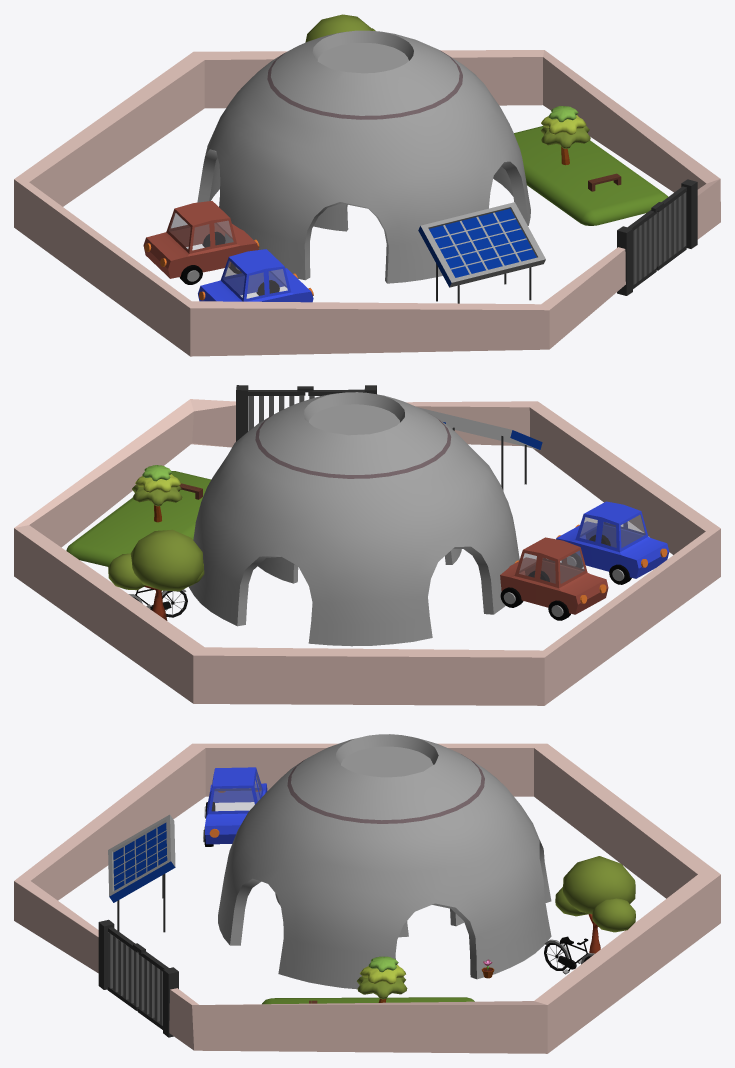
Rendered from Research Single.fbx.
3 renders of one model, top to bottom at view 1: azimuth 30°, elevation 25°; view 2: azimuth 150°, elevation 25°; view 3: azimuth 270°, elevation 25°, orthographic.
Parts seen in each view (by area): view 1: wall, igloo1, Garden, Solar panel, Car.001, Gate, Car, Tree1.001, Tree2, igloo inside; view 2: wall, igloo1, Car.001, Car, Garden, Tree2, Gate, Solar panel, Tree1.001, igloo inside, Cycle; view 3: wall, igloo1, Gate, Tree2, Solar panel, Car, Tree1.001, Garden, Cycle.
Boxes of the visible parts, x1,y1,x2,y2 form: wall: [14, 50, 720, 356]; igloo1: [197, 30, 530, 283]; Garden: [514, 126, 668, 225]; Solar panel: [418, 202, 545, 303]; Car.001: [143, 201, 259, 284]; Gate: [617, 179, 697, 295]; Car: [198, 249, 313, 302]; Tree1.001: [541, 106, 590, 165]; Tree2: [305, 14, 375, 42]; igloo inside: [313, 203, 348, 231]; wall: [14, 399, 720, 705]; igloo1: [189, 392, 519, 646]; Car.001: [500, 537, 608, 620]; Car: [556, 501, 669, 584]; Garden: [66, 471, 210, 566]; Tree2: [108, 529, 204, 620]; Gate: [236, 385, 376, 441]; Solar panel: [418, 407, 542, 490]; Tree1.001: [132, 465, 182, 522]; igloo inside: [258, 549, 461, 583]; Cycle: [128, 589, 187, 617]; wall: [14, 743, 720, 1053]; igloo1: [218, 734, 551, 989]; Gate: [98, 919, 178, 1037]; Tree2: [555, 856, 635, 953]; Solar panel: [108, 814, 175, 932]; Car: [203, 767, 267, 846]; Tree1.001: [357, 956, 407, 1002]; Garden: [262, 997, 474, 1004]; Cycle: [544, 936, 594, 974].
Bounding box in the file's own units: 137 × 44.39 × 157.
